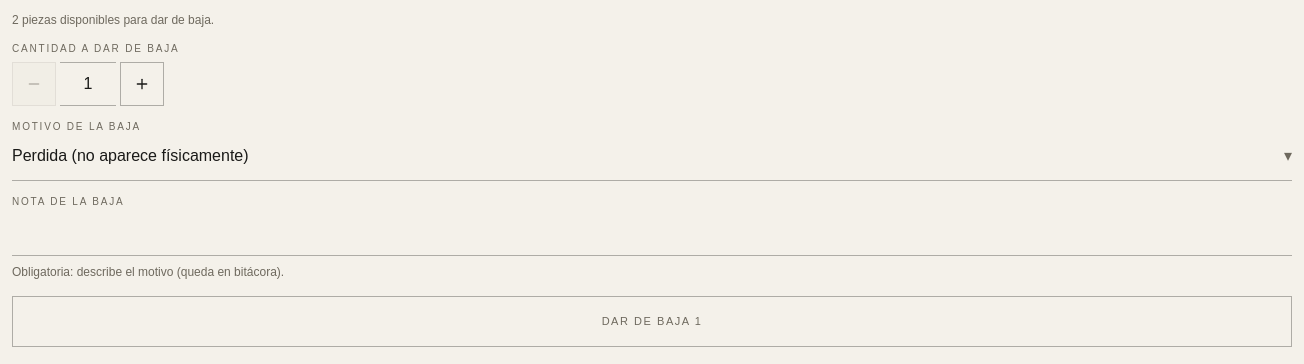
QuickRemoveSection (P-29) · baja rápida de inventario › money-safe: el stepper se capa al conteo VISIBLE (no ofrece bajar de más)
The image size is (1304, 364).
Expected: the text "2 piezas disponibles para dar de baja." is shown, x1=12 y1=13 x2=214 y2=27
Click the button named "Sumar uno" at (142, 84), box x1=120 y1=62 x2=164 y2=106
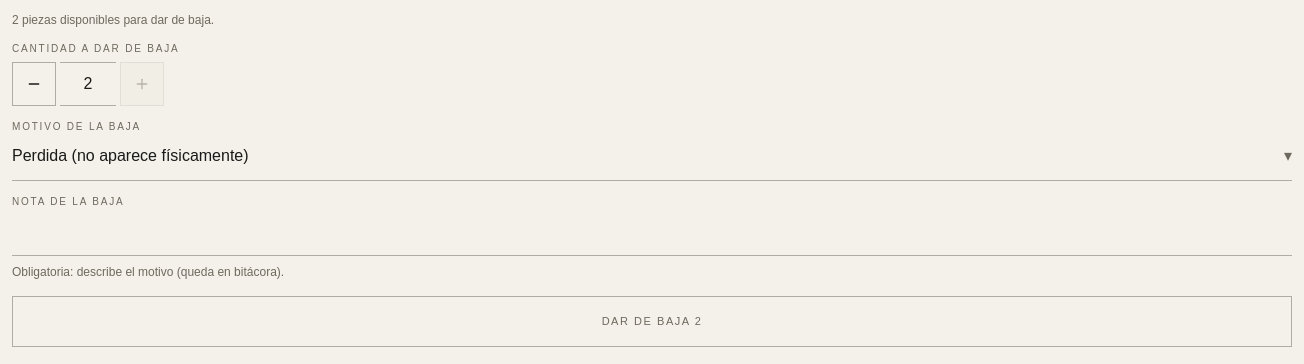
Expected: the field named "Cantidad a dar de baja" holds "2", x1=60 y1=62 x2=116 y2=106
Expected: the button named "Sumar uno" is disabled, x1=120 y1=62 x2=164 y2=106
